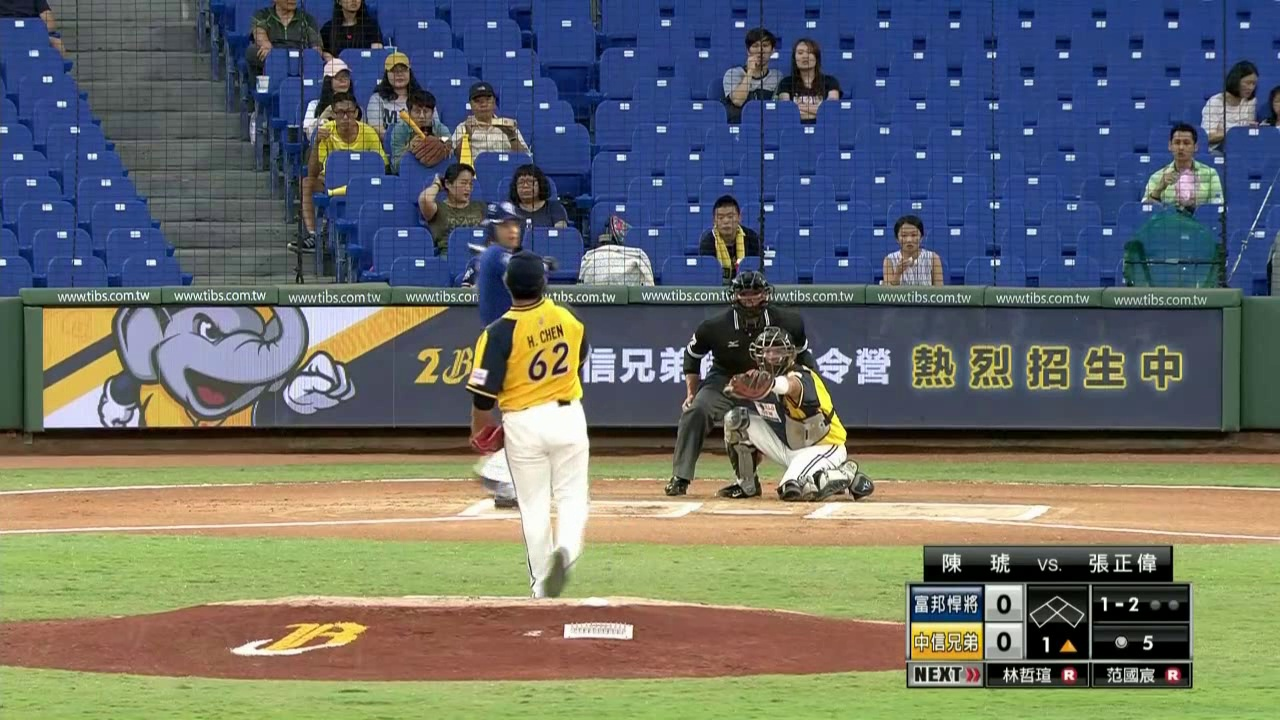ball: (635, 352, 655, 375)
base: (1027, 593, 1087, 630)
bat: (834, 206, 860, 314)
out: (1147, 596, 1182, 613)
score1: (985, 583, 1023, 621)
score2: (985, 622, 1023, 659)
session: (1038, 634, 1080, 654)
strikeball: (1096, 593, 1141, 614)
total: (1106, 630, 1160, 654)
